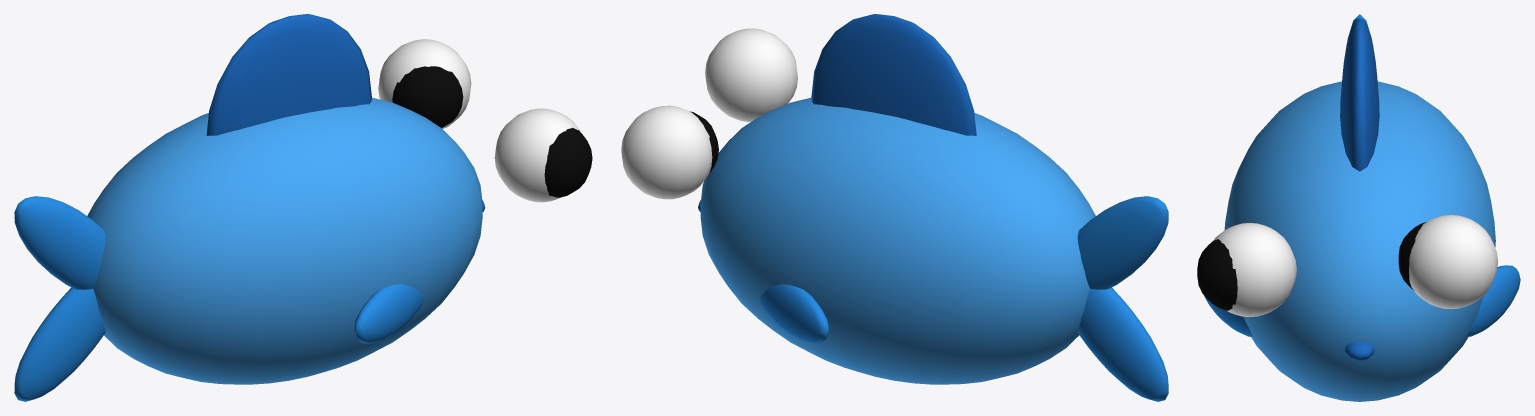
Rendered from ikan_kecil.glb.
3 renders of one model, left to right at view 1: azimuth 30°, elevation 25°; view 2: azimuth 150°, elevation 25°; view 3: azimuth 270°, elevation 25°, orthographic.
Bounding box in the file's own units: 1.04 × 0.678 × 0.5656.
